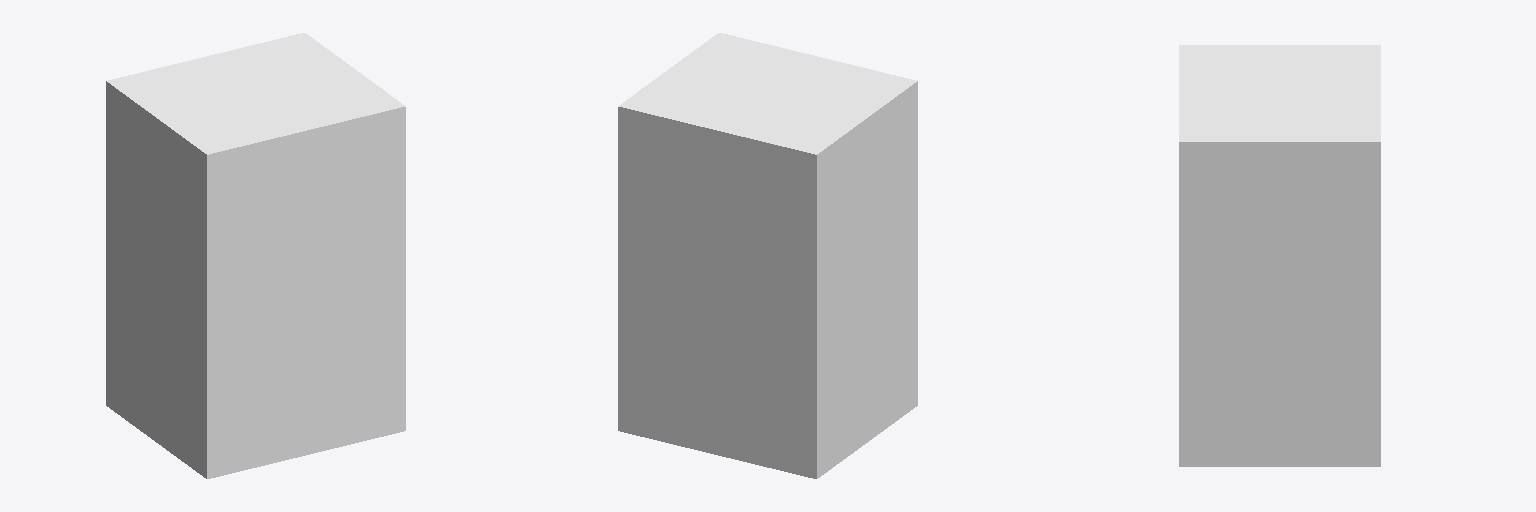
Rendered from karo.obj.
3 views of the same model, side by side, from view 1: azimuth 30°, elevation 25°; view 2: azimuth 150°, elevation 25°; view 3: azimuth 270°, elevation 25° (orthographic).
Visible parts, largest first — view 1: object 1; view 2: object 1; view 3: object 1.
Part boxes in pixels (left/top/right/bottom): object 1: left=106, top=33, right=405, bottom=478; object 1: left=618, top=33, right=917, bottom=478; object 1: left=1179, top=45, right=1380, bottom=466.
Size of the model in its own units: 2.5 by 3.9 by 2.2.